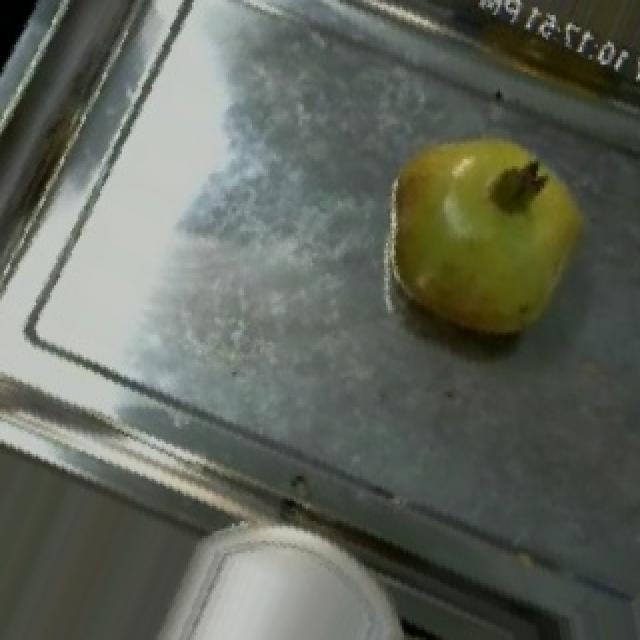fruit: (348, 99, 620, 367)
